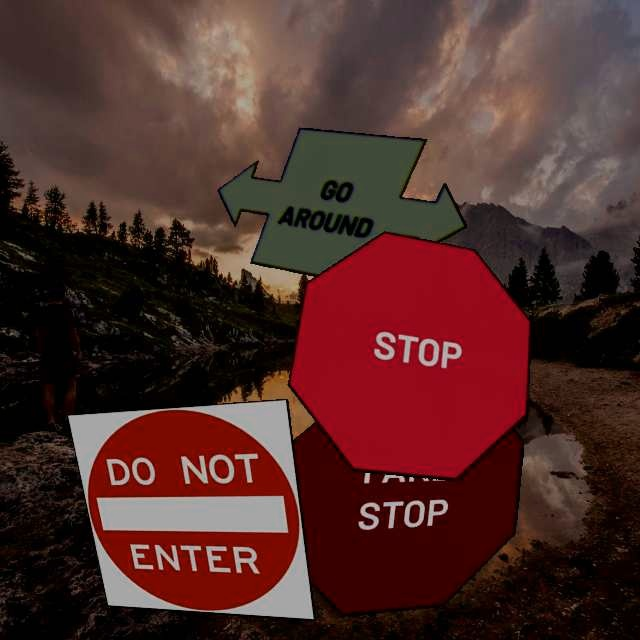DO_NOT_ENTER: (66, 398, 316, 621)
FAKE_STOP: (274, 374, 524, 616)
GO_AROUND: (217, 127, 467, 286)
STOP: (287, 231, 532, 481)
